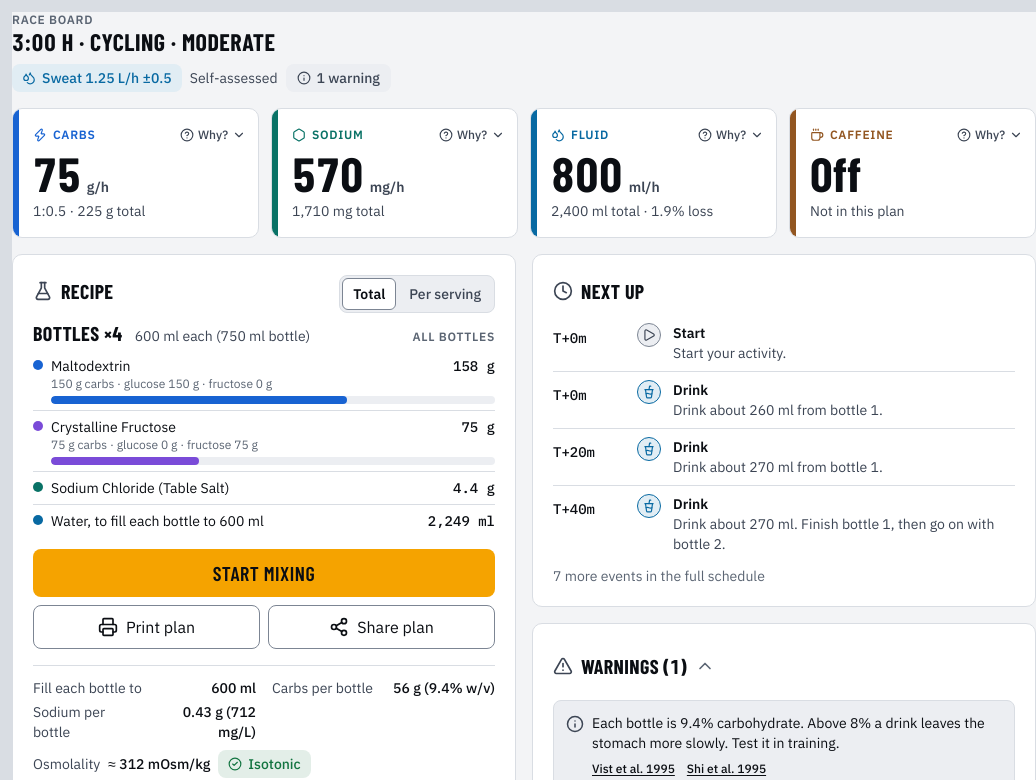
RaceBoard: recipe lanes › shows the bottles of a drink
Expected: the heading "Bottles ×4" is shown, [33,321,123,345]
Expected: the text with test id "section-servings" reads "600 ml each (750 ml bottle)", [135,327,310,345]
Step 1. Click the radio button labelled "Per serving" → click(445, 294), box [398,278,492,310]
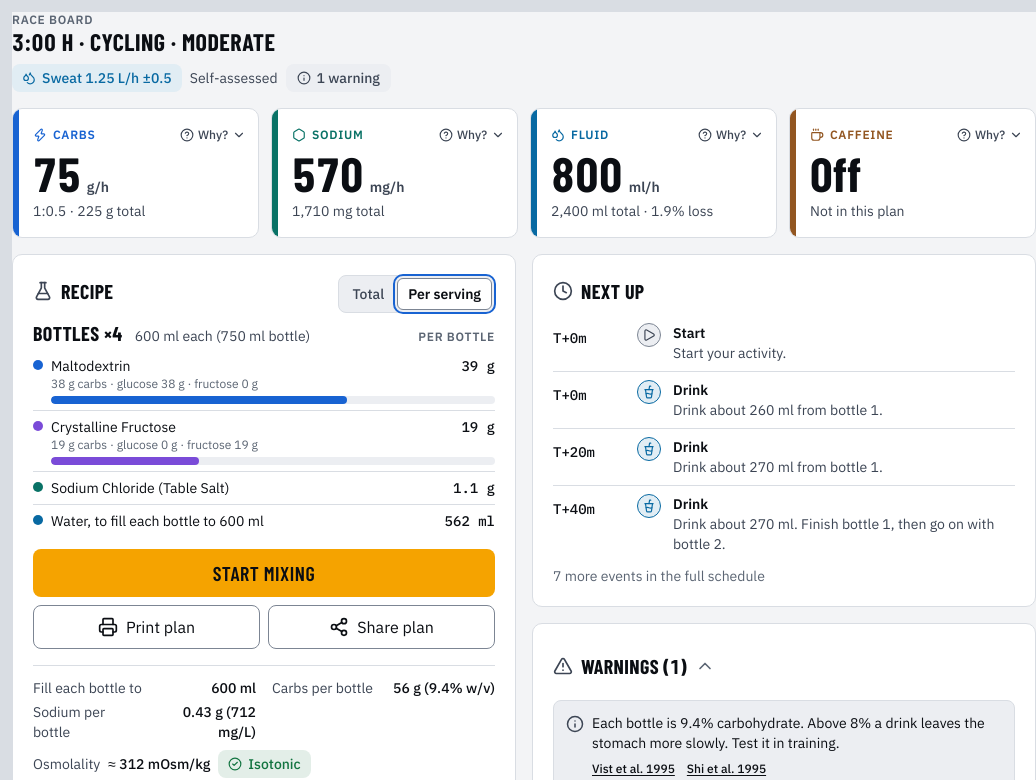
Expected: the text with test id "amounts-caption" reads "Per bottle", [418,329,495,344]
